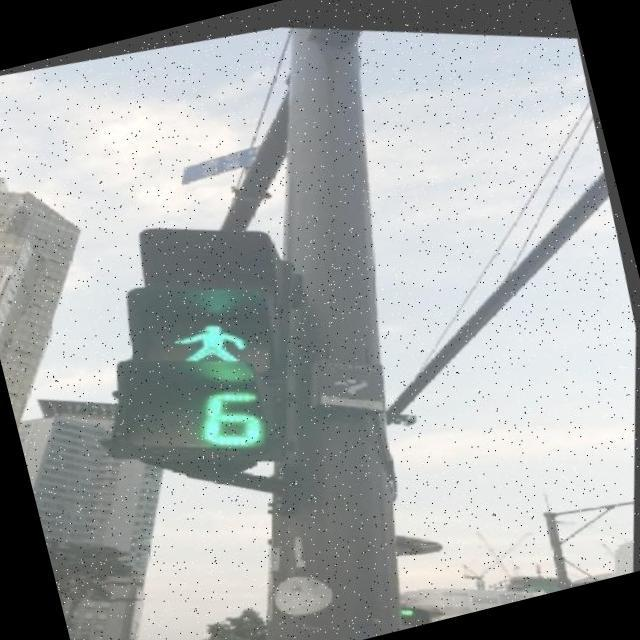greenlight: (130, 235, 280, 380)
